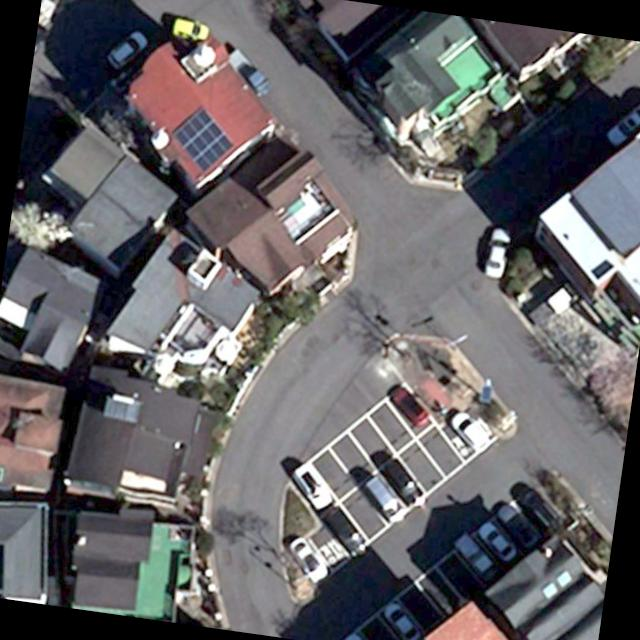solar: (166, 100, 242, 180)
